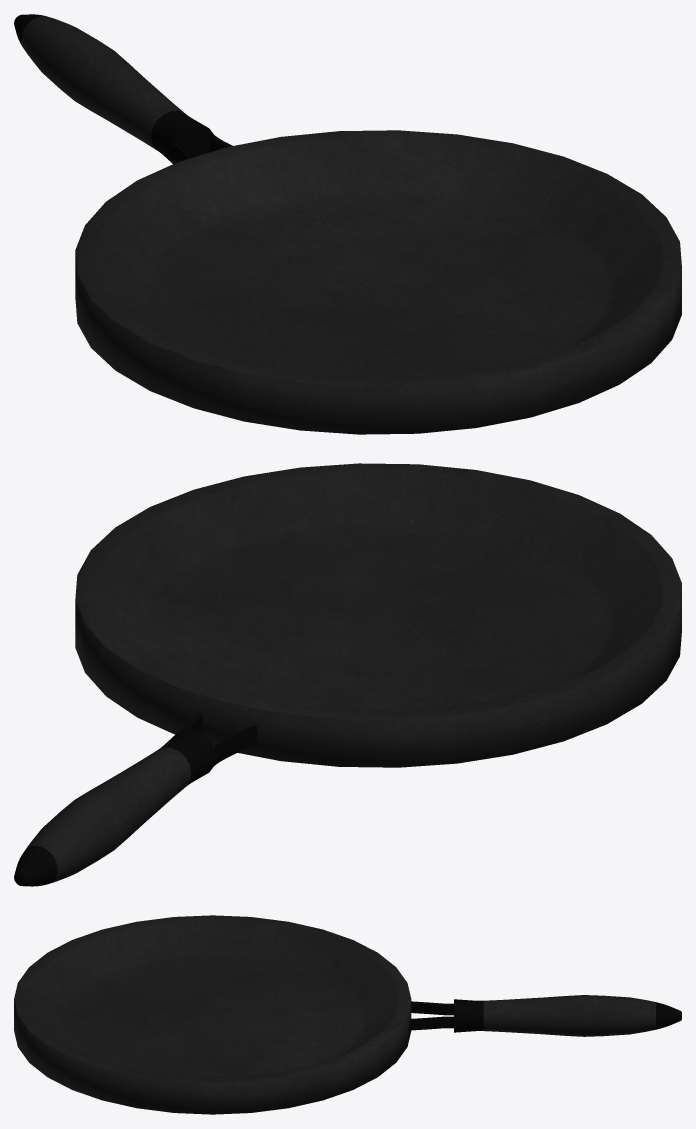
File: frying_pan.obj
3 views of the same model, one above another, from view 1: azimuth 30°, elevation 25°; view 2: azimuth 150°, elevation 25°; view 3: azimuth 270°, elevation 25° (orthographic). The views are drawn at different scales.
Visible parts, largest first — view 1: frying_pan; view 2: frying_pan; view 3: frying_pan.
Part boxes in pixels (bbox=[...]): frying_pan: bbox=[14, 14, 681, 434]; frying_pan: bbox=[14, 463, 681, 886]; frying_pan: bbox=[14, 915, 681, 1114].
Size of the model in its own units: 0.2558 by 0.027 by 0.4299.
Materials: 2 (2 with a texture image).
